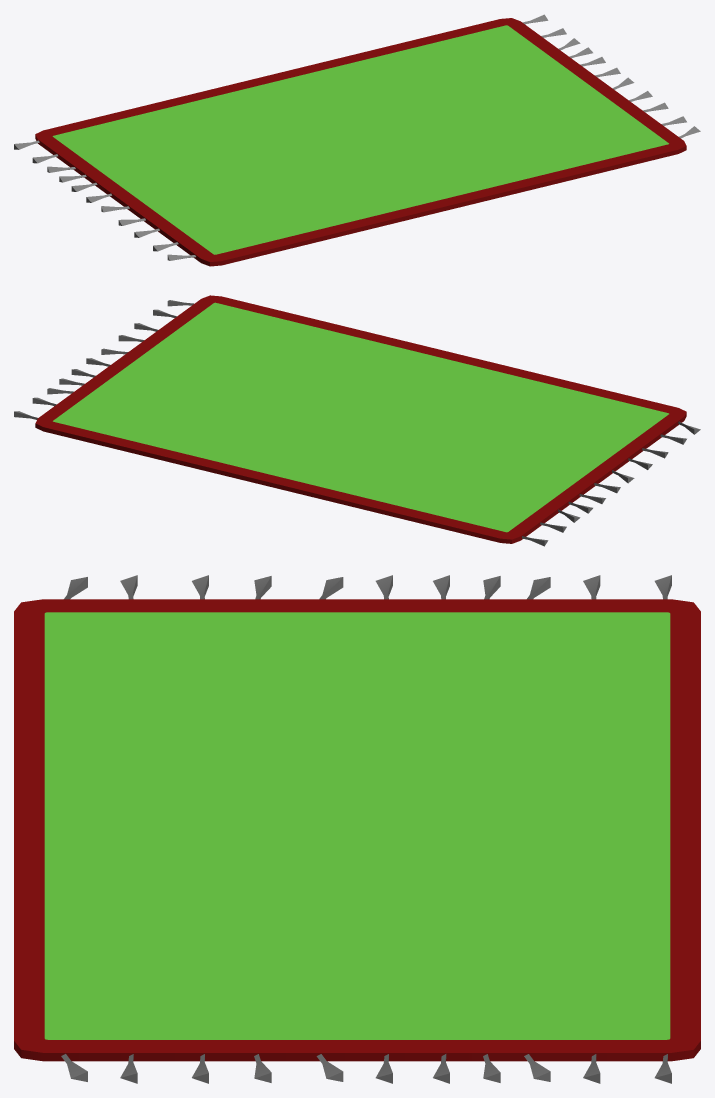
File: SM_carpet_large.fbx
3 renders of one model, top to bottom at view 1: azimuth 30°, elevation 25°; view 2: azimuth 150°, elevation 25°; view 3: azimuth 270°, elevation 25°, orthographic. The views are drawn at different scales.
Visible parts, largest first — view 1: Object005; view 2: Object005; view 3: Object005.
Boxes of the visible parts, x1,y1,x2,y2 form: Object005: (14,14,700,266); Object005: (14,295,700,546); Object005: (14,575,700,1083).
Bounding box in the file's own units: 162 × 94.58 × 1.62.
